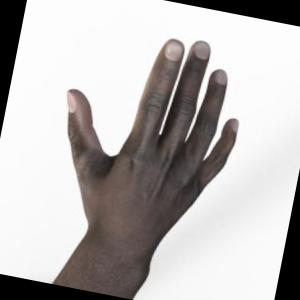paper: (21, 5, 276, 276)
